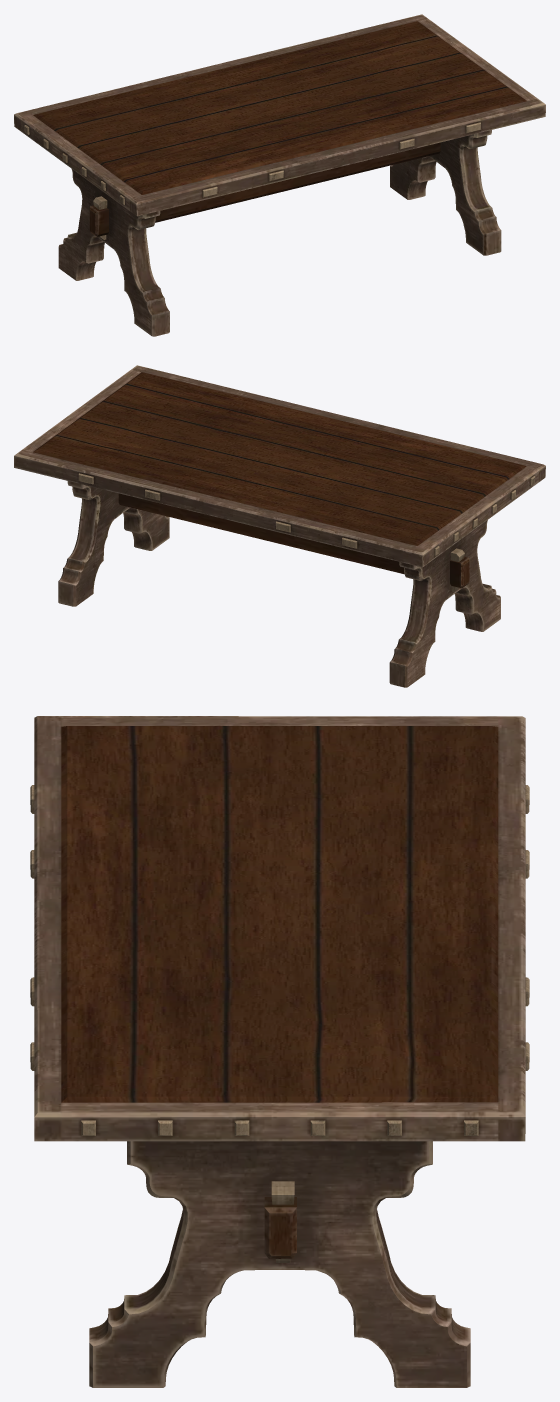
Rendered from wooden_table_game_ready_asset.glb.
The picture shows the model from 3 angles, top to bottom: view 1: azimuth 30°, elevation 25°; view 2: azimuth 150°, elevation 25°; view 3: azimuth 270°, elevation 25°; orthographic projection. The views are drawn at different scales.
Parts seen in each view (by area): view 1: defaultMaterial; view 2: defaultMaterial; view 3: defaultMaterial.
Boxes of the visible parts, <box> form: defaultMaterial: <box>14,14,545,336</box>; defaultMaterial: <box>14,365,545,687</box>; defaultMaterial: <box>30,716,529,1387</box>.
Bounding box in the file's own units: 249 × 88.23 × 130.
Materials: 1 (1 with a texture image).
